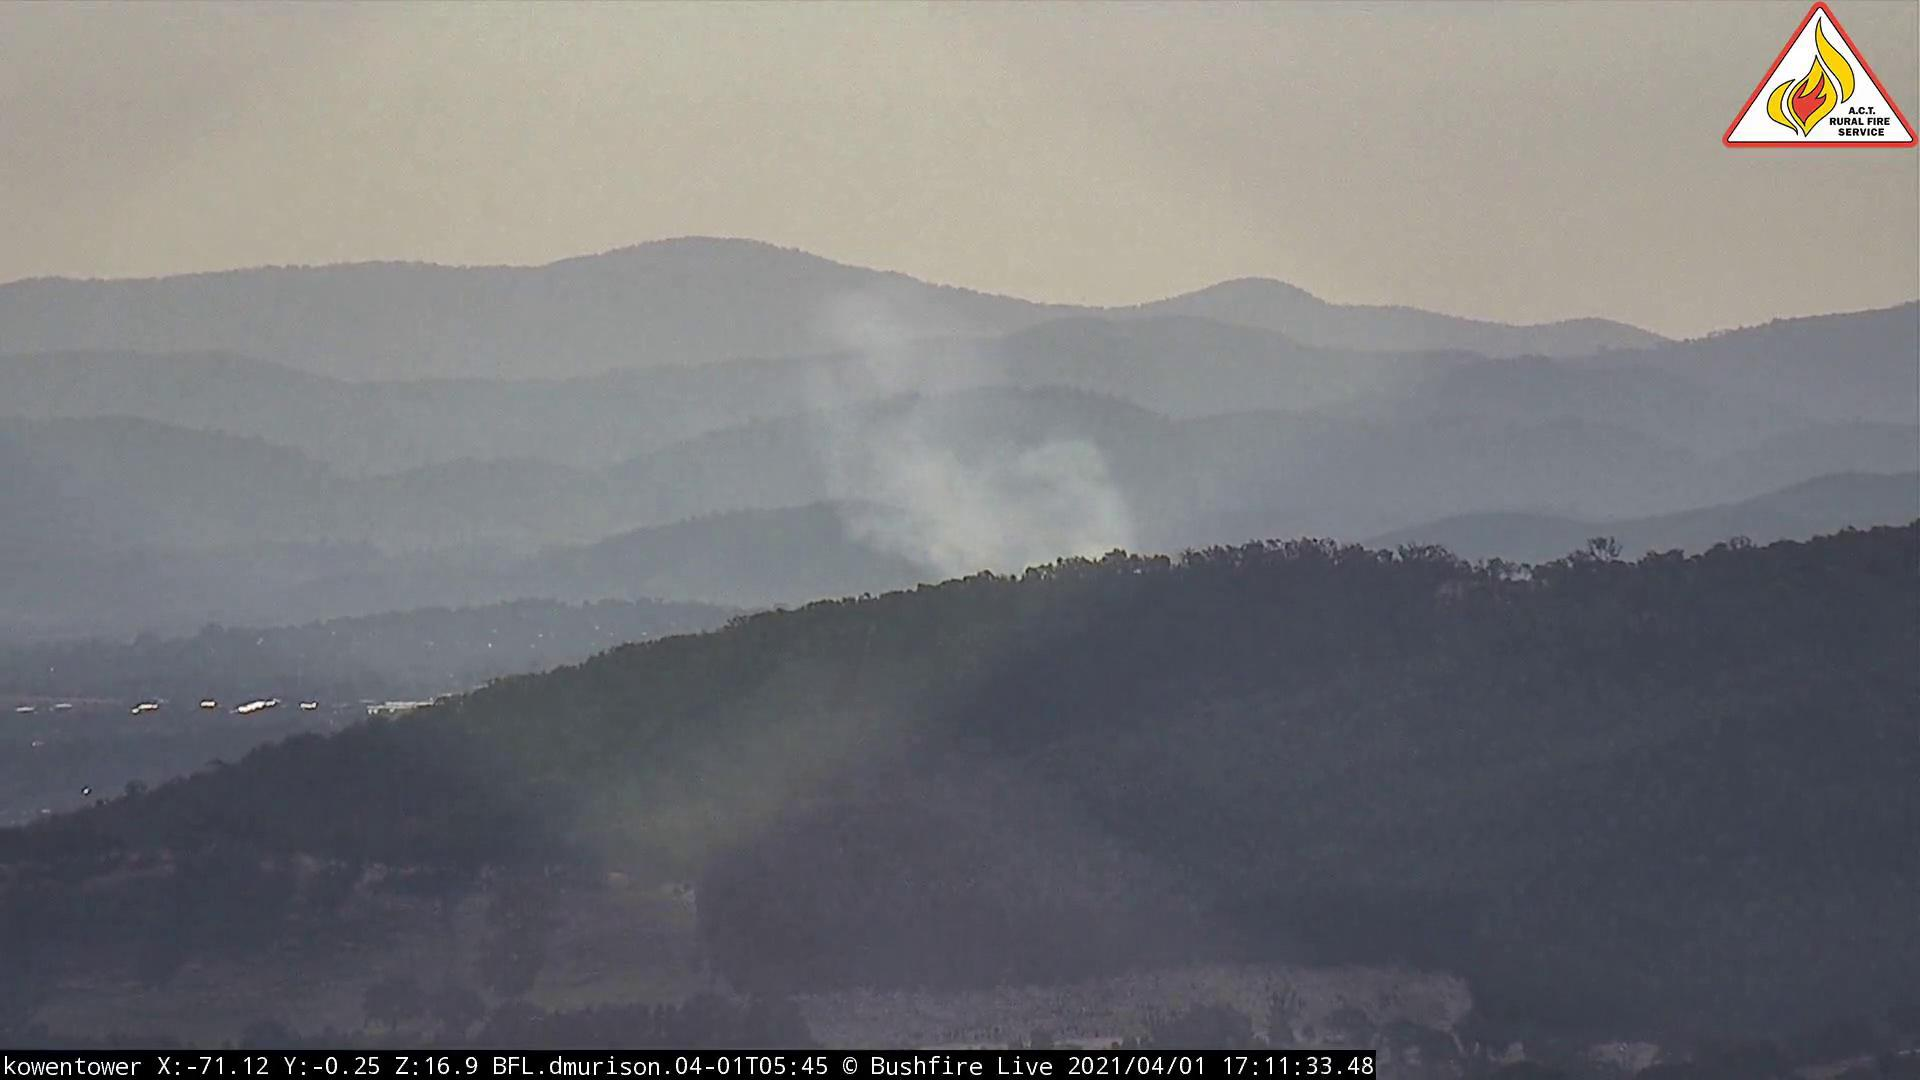instance_salient_object: (779, 274, 1213, 634)
